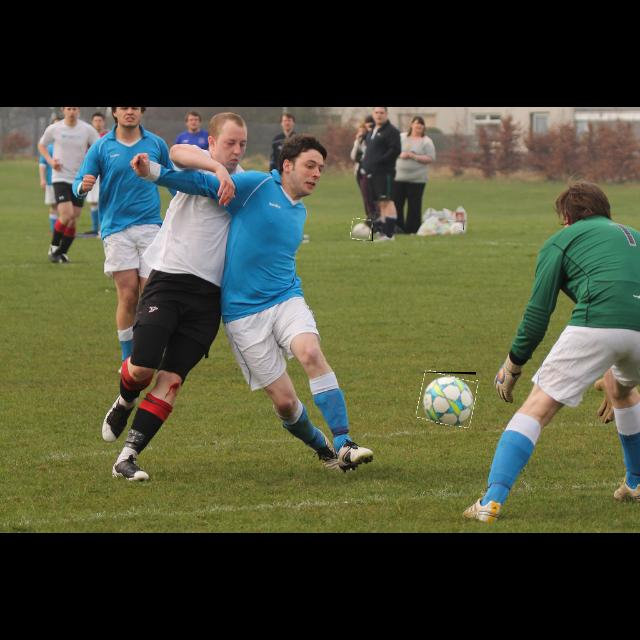Football: (418, 372, 476, 426), (351, 219, 373, 241), (448, 220, 464, 230)
